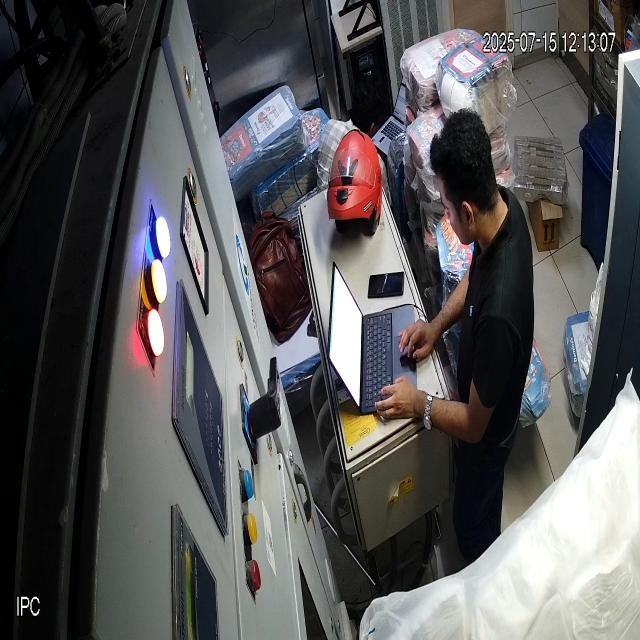helmet: (327, 128, 382, 238)
